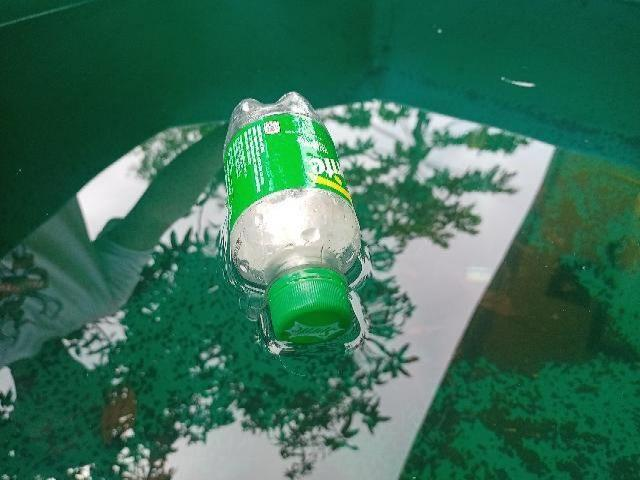Bottle: (213, 87, 367, 357)
